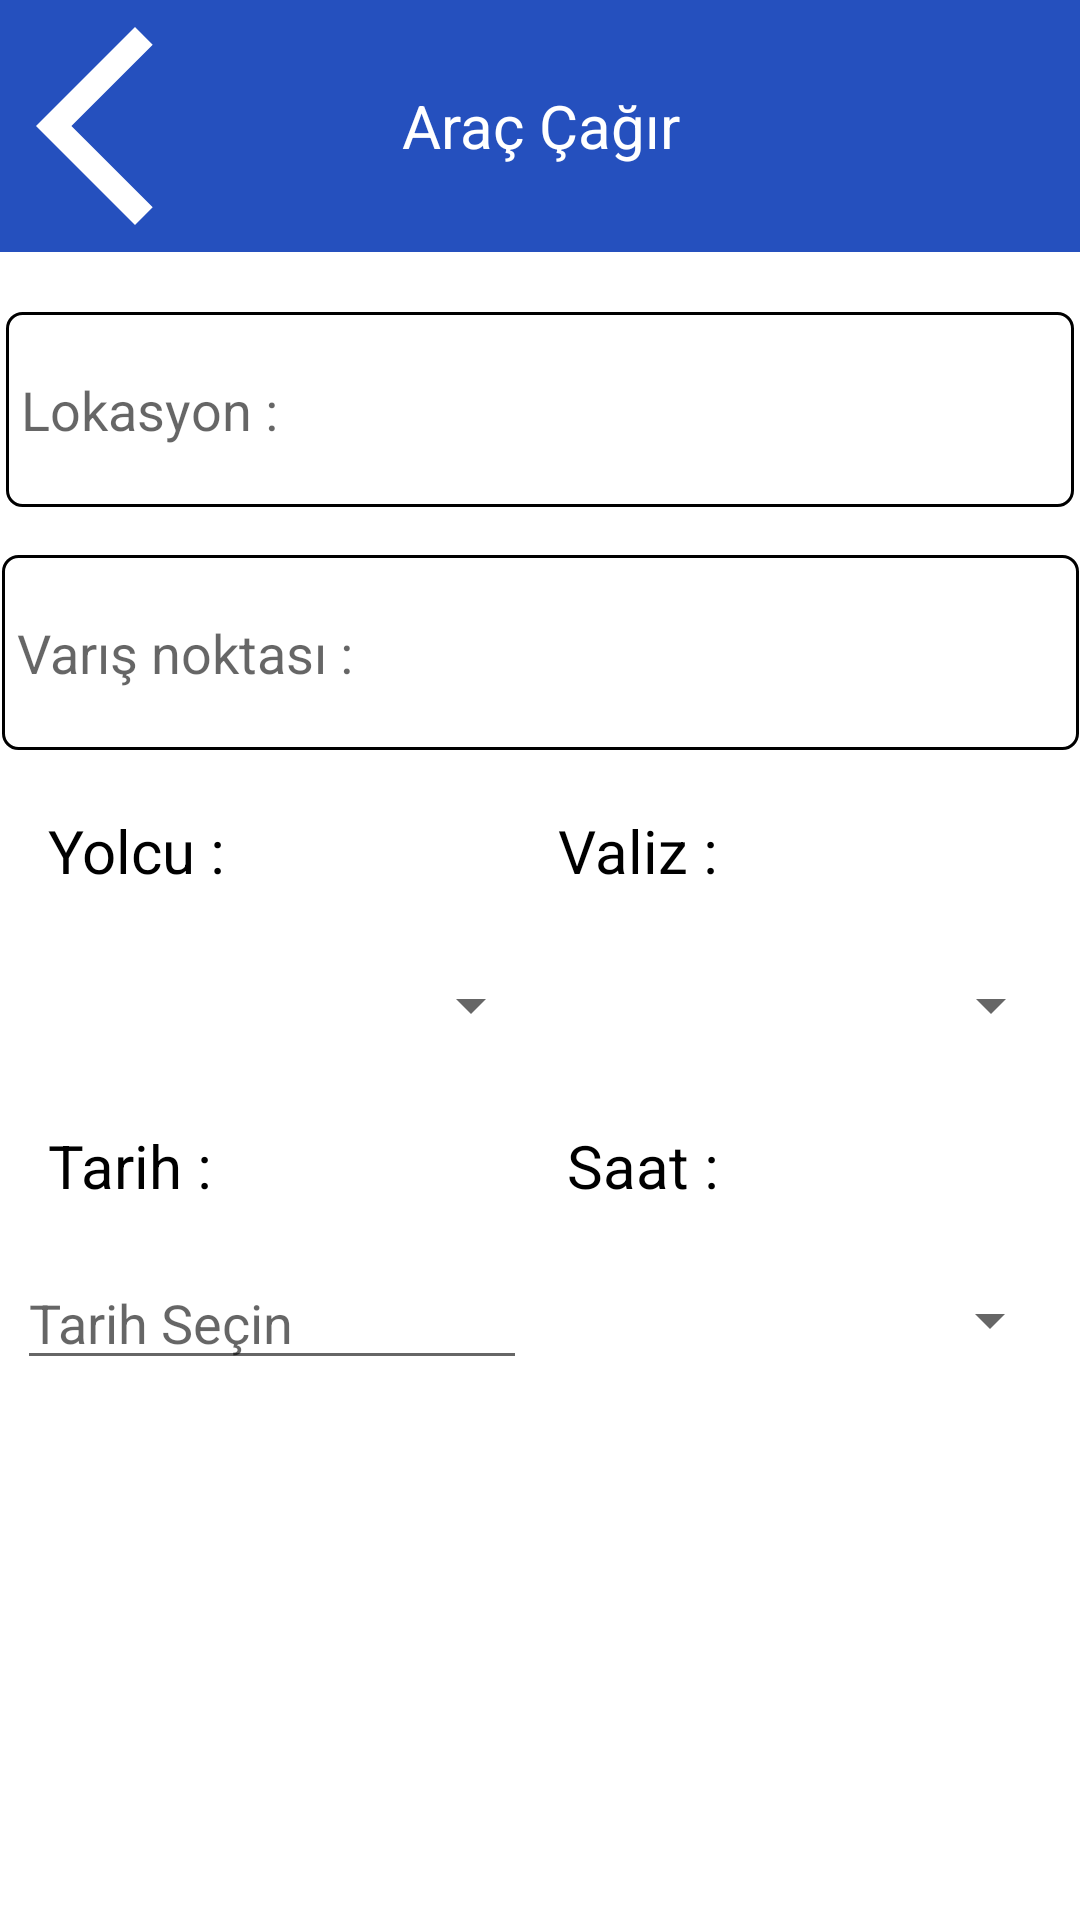

Screen size 1080x1920. Icon name, then its box in pixels as bbox=[x1, y1, x2, y2]:
arrow back: bbox=[36, 27, 153, 225]
